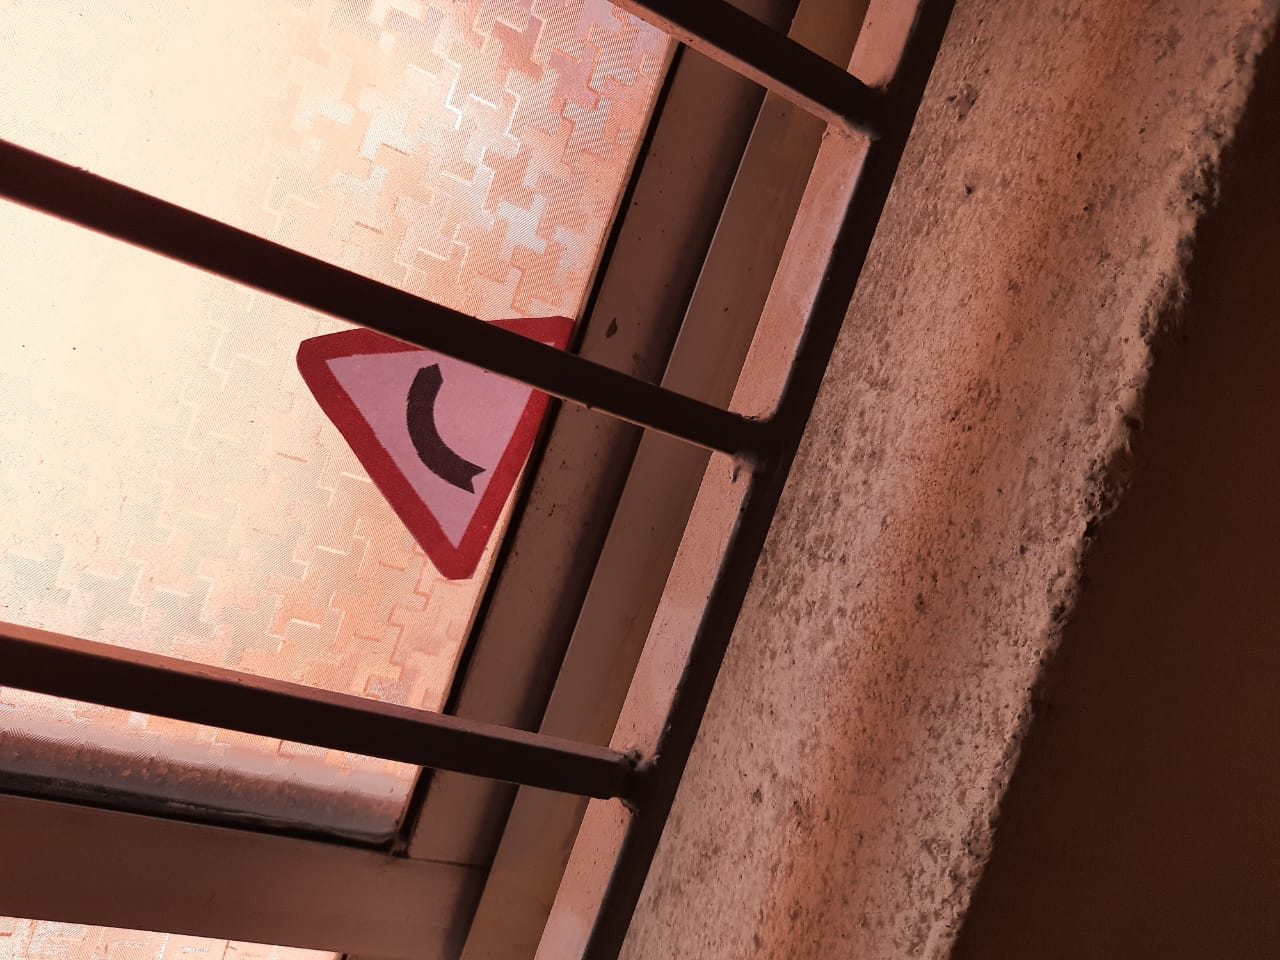RIGHT CURVE: (281, 292, 591, 563)
